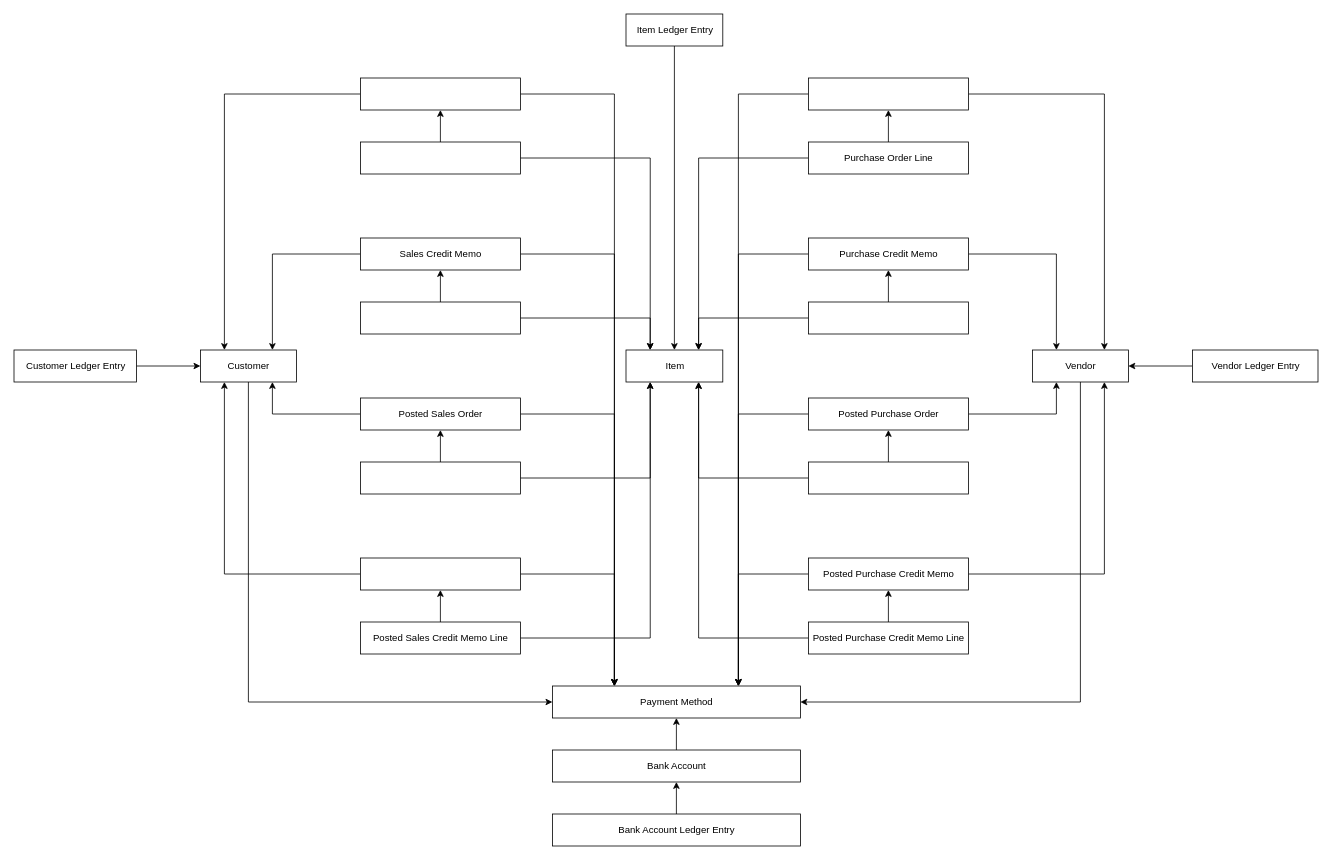
Some shapes in this 1332 by 860 pixel diagram are drawn without their labels. The centre of each missing label's shape, as x and y in pixels:
Posted Purchase Order Line: (x=888, y=477)
Posted Sales Credit Memo: (x=440, y=573)
Posted Sales Order Line: (x=440, y=477)
Purchase Credit Memo Line: (x=888, y=317)
Purchase Order: (x=888, y=93)
Sales Credit Memo Line: (x=440, y=317)
Sales Order: (x=440, y=93)
Sales Order Line: (x=440, y=157)
